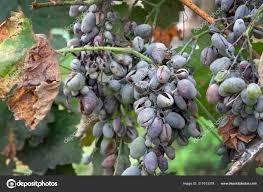Grape Rotten: (62, 0, 262, 176), (63, 3, 202, 176)
